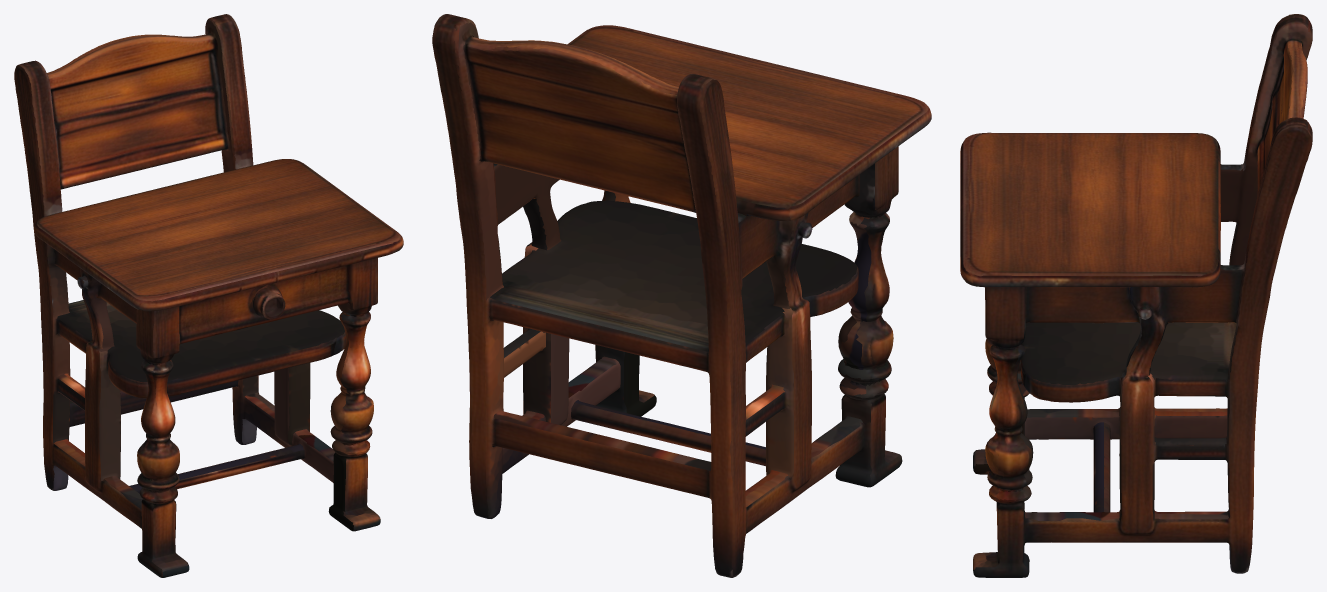
Rendered from pupitre_escolar.glb.
The picture shows the model from 3 angles, left to right: view 1: azimuth 30°, elevation 25°; view 2: azimuth 150°, elevation 25°; view 3: azimuth 270°, elevation 25°; orthographic projection. The views are drawn at different scales.
Parts seen in each view (by area): view 1: tmp3i7uan7q.ply; view 2: tmp3i7uan7q.ply; view 3: tmp3i7uan7q.ply.
Boxes of the visible parts, x1,y1,x2,y2 form: tmp3i7uan7q.ply: [14, 14, 403, 577]; tmp3i7uan7q.ply: [432, 14, 931, 577]; tmp3i7uan7q.ply: [960, 14, 1312, 577].
Bounding box in the file's own units: 0.685 × 0.9935 × 0.7039.
1 material, 1 textured.
